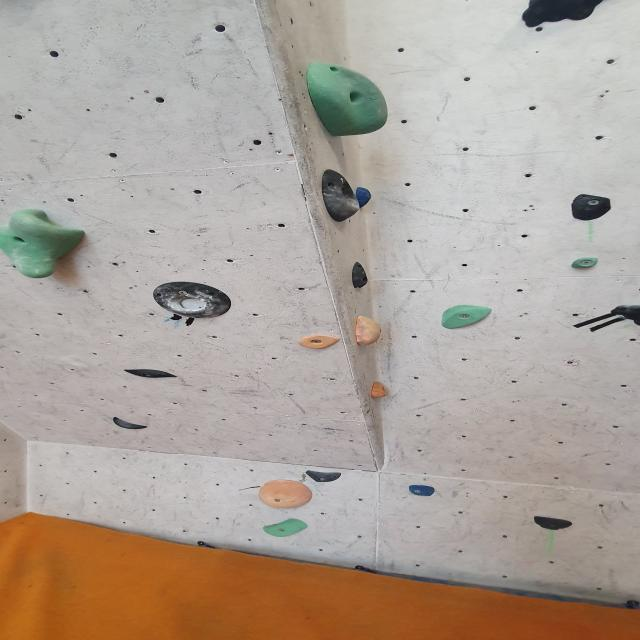Crimp: (438, 304, 496, 332), (565, 194, 616, 223), (528, 512, 579, 533), (295, 334, 343, 351), (407, 484, 438, 499), (570, 258, 602, 272)
Jug: (0, 206, 94, 282), (516, 0, 628, 30), (605, 300, 640, 332)
Pinch: (262, 518, 310, 539)
Pocket: (146, 277, 239, 325), (308, 166, 374, 222)
Sloper: (304, 64, 395, 140), (256, 478, 314, 511), (350, 314, 382, 348)
